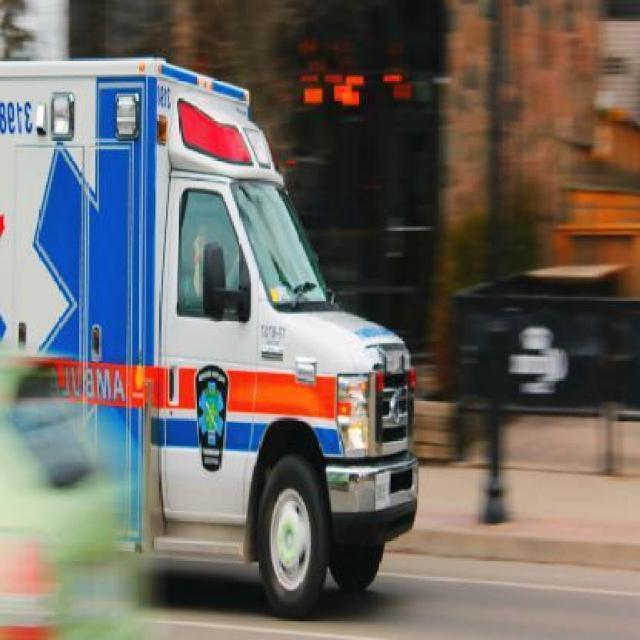emergency: (0, 54, 420, 618)
